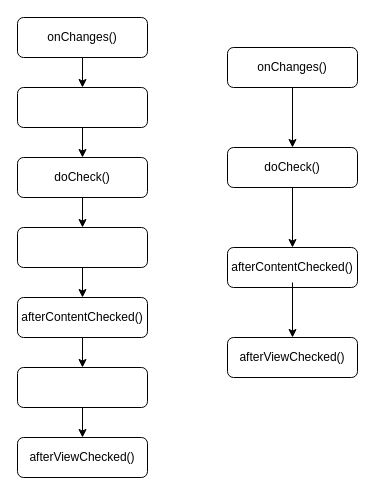
The diagram is 375 pixels wide and 495 high, and some of its shapes have lost their labels. Each missing label, with the box of its shape:
afterContentInit(): (16, 226, 148, 268)
afterViewInit(): (16, 366, 148, 408)
onInit(): (16, 86, 148, 128)
